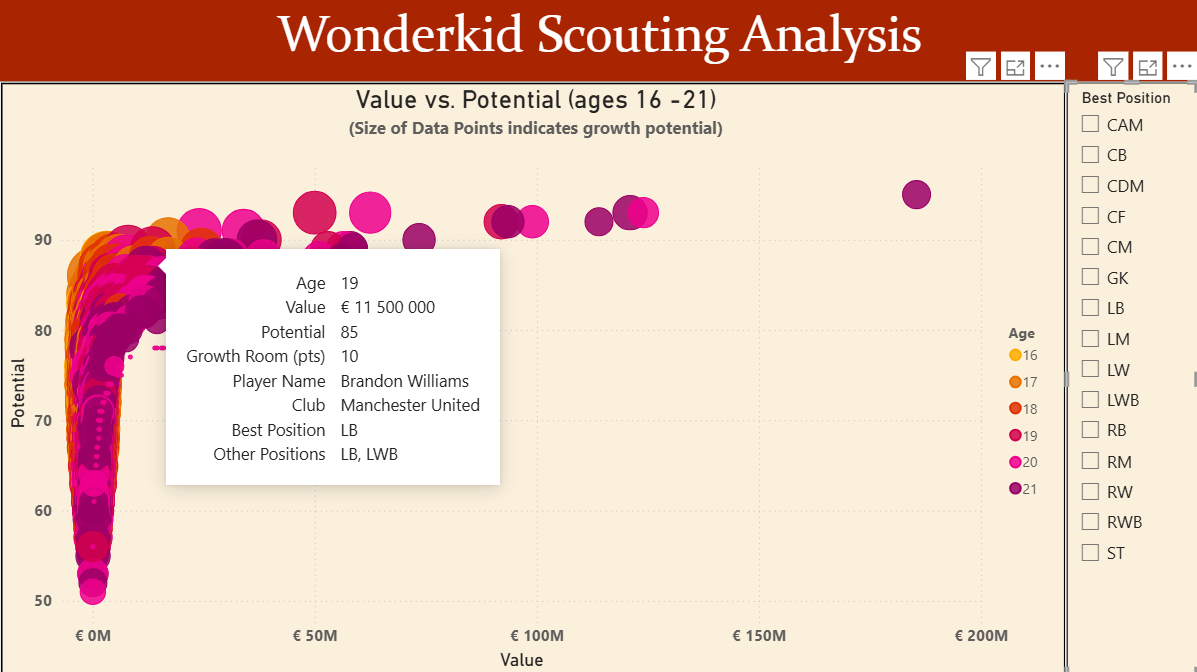

This screenshot's page, from the dashboard's own definition file:
{"tool":"powerbi","page":{"name":"Page 2","canvas":[1280,720],"ordinal":1},"visuals":[{"type":"textbox","box":[0,0,1136,79.1],"z":0},{"type":"scatterChart","title":"Value vs. Potential","fields":{"X":["fifa_clean_data.Value(Euros)"],"Y":["fifa_clean_data.POT"],"Size":["fifa_clean_data.Growth"],"Series":["fifa_clean_data.Age"]},"box":[0,79.1,1136,507],"z":1000}]}

Visuals, with their boxes on the page's 1280x720 design canvas (x1, y1, x2, y2). These are canvas units, not pixel positions in the 1197x672 screenshot, which may show the page scaled, cropped or inside an application window:
textbox: crop(0, 0, 1136, 79)
"Value vs. Potential" scatterChart: crop(0, 79, 1136, 586)
